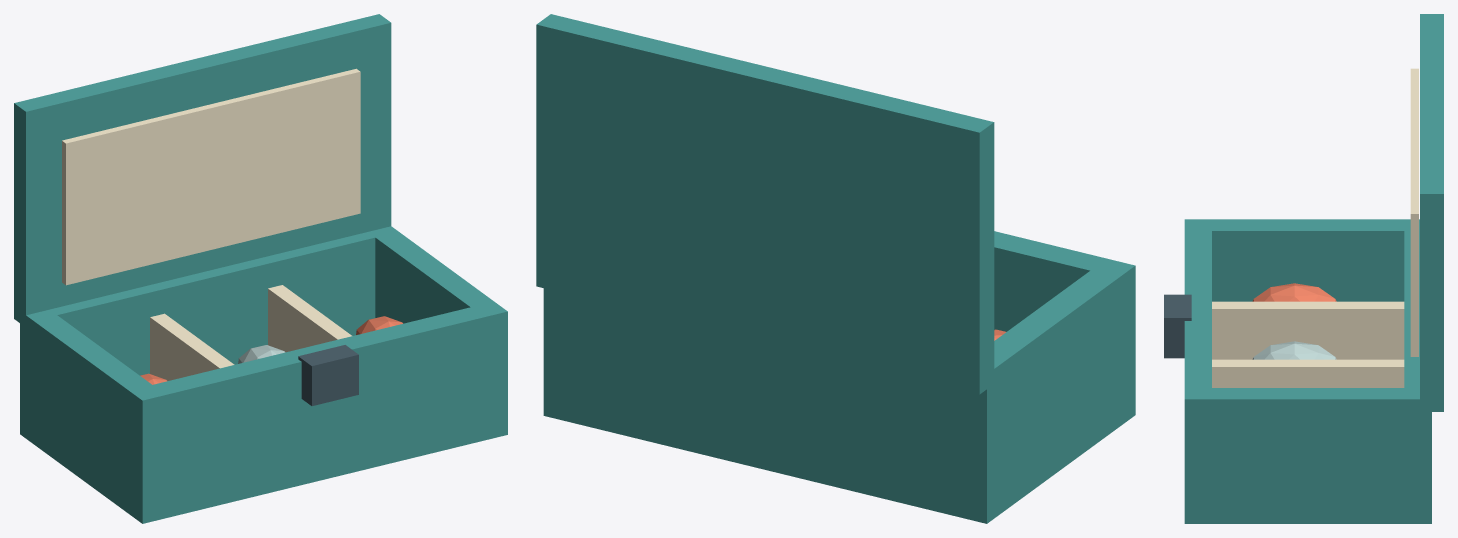
The model's file is open_tackle_box_quiet_lake_fishing_22412.glb.
3 renders of one model, left to right at view 1: azimuth 30°, elevation 25°; view 2: azimuth 150°, elevation 25°; view 3: azimuth 270°, elevation 25°, orthographic. The views are drawn at different scales.
Visible parts, largest first — view 1: teal, cream, iron, coral; view 2: teal; view 3: teal, cream, iron, coral, silver.
Boxes of the visible parts, bbox=[...] form: teal: bbox=[14, 14, 507, 523]; cream: bbox=[62, 68, 360, 380]; iron: bbox=[298, 345, 358, 405]; coral: bbox=[140, 316, 402, 384]; teal: bbox=[536, 14, 1135, 523]; teal: bbox=[1184, 14, 1443, 523]; cream: bbox=[1212, 68, 1418, 387]; iron: bbox=[1164, 294, 1191, 358]; coral: bbox=[1252, 283, 1336, 301]; silver: bbox=[1252, 341, 1336, 359].
Bounding box in the file's own units: 0.62 × 0.53 × 0.4075.
